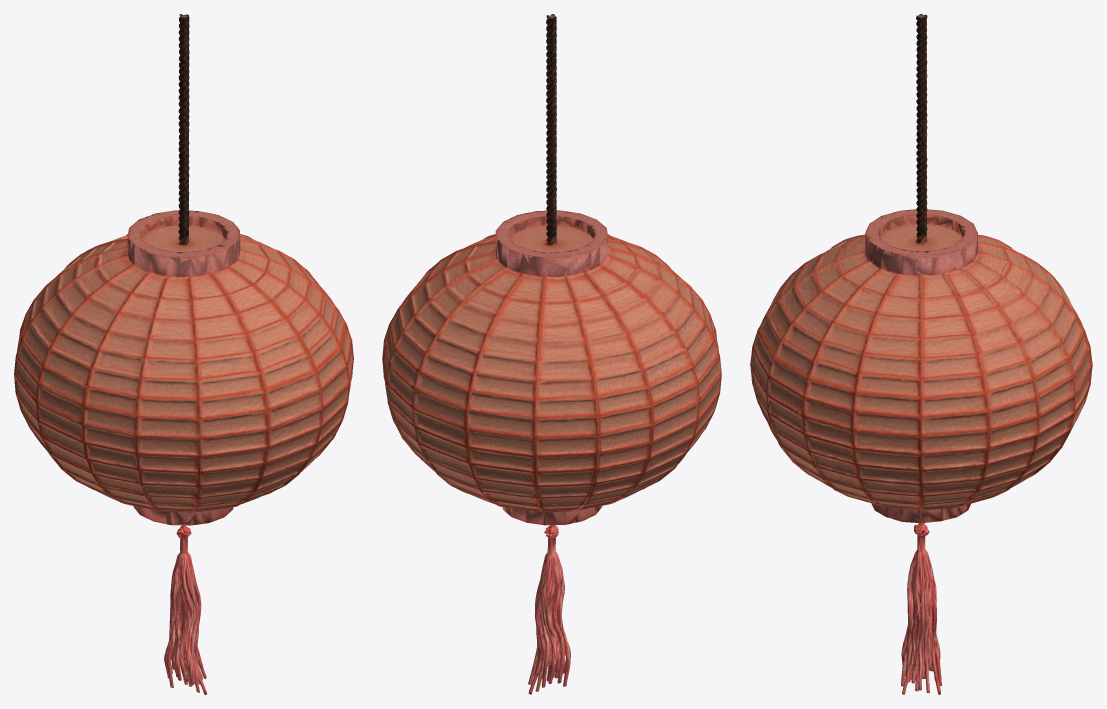
The model's file is red-paper-lantern.glb.
The picture shows the model from 3 angles, left to right: view 1: azimuth 30°, elevation 25°; view 2: azimuth 150°, elevation 25°; view 3: azimuth 270°, elevation 25°; orthographic projection.
Visible parts, largest first — view 1: tripo_node_c98a9f2e-8fb5-4383-846d-1177e2543237; view 2: tripo_node_c98a9f2e-8fb5-4383-846d-1177e2543237; view 3: tripo_node_c98a9f2e-8fb5-4383-846d-1177e2543237.
Boxes of the visible parts, <box> form: tripo_node_c98a9f2e-8fb5-4383-846d-1177e2543237: <box>14,14,353,694</box>; tripo_node_c98a9f2e-8fb5-4383-846d-1177e2543237: <box>382,14,721,694</box>; tripo_node_c98a9f2e-8fb5-4383-846d-1177e2543237: <box>750,14,1092,694</box>.
Size of the model in its own units: 0.4512 by 0.9845 by 0.4537.
1 material, 1 textured.
